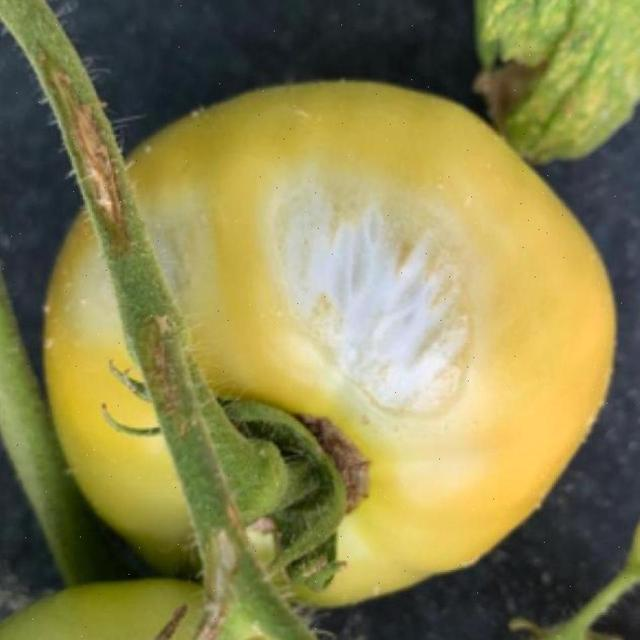Sunscald Fruit: (100, 117, 252, 203)
